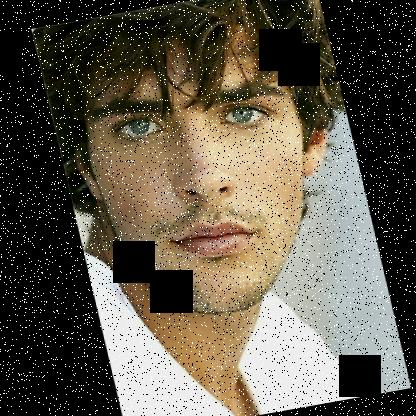Male: (47, 9, 360, 334)
